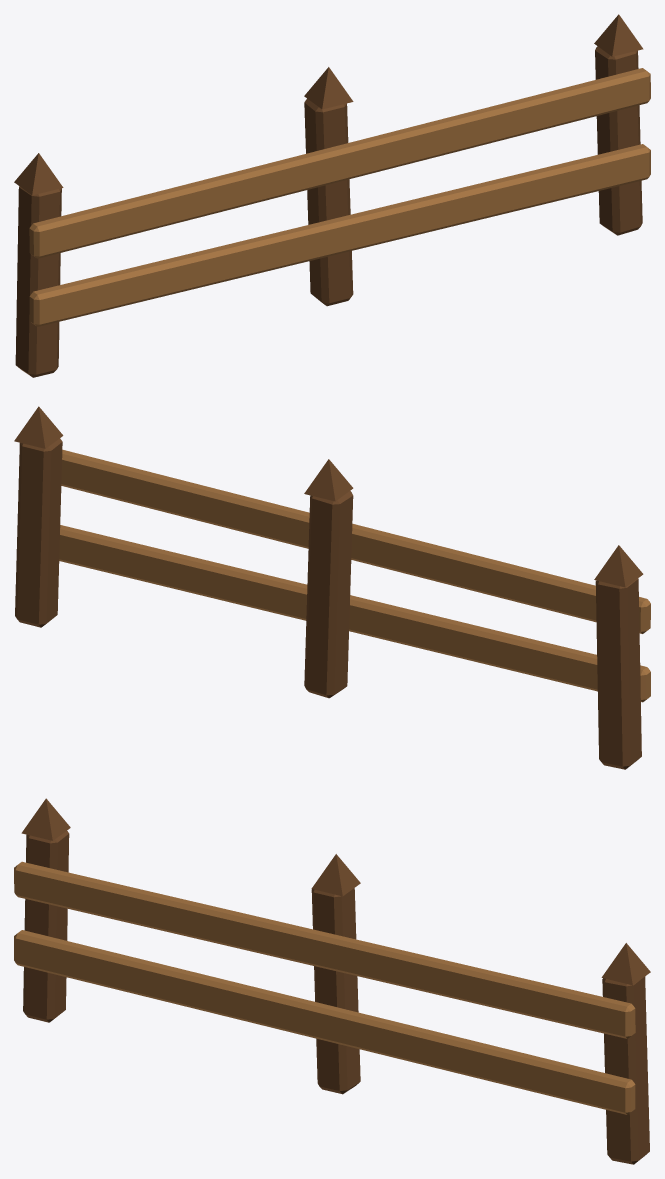
Rendered from Fence.fbx.
3 renders of one model, top to bottom at view 1: azimuth 30°, elevation 25°; view 2: azimuth 150°, elevation 25°; view 3: azimuth 330°, elevation 25°, orthographic.
Parts seen in each view (by area): view 1: Fence; view 2: Fence; view 3: Fence.
Part boxes in pixels (box(x1,y1,x2,y2)): Fence: box(14, 14, 650, 377); Fence: box(14, 406, 650, 769); Fence: box(14, 798, 650, 1164).
Size of the model in its own units: 1 by 0.3614 by 0.07.
